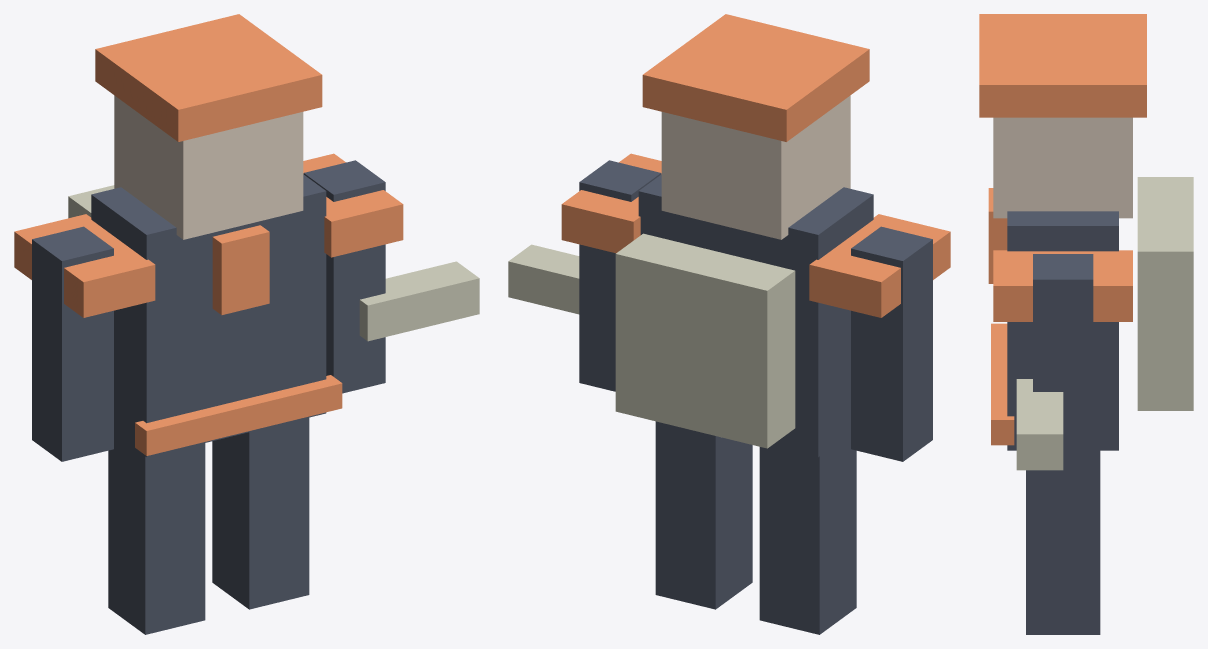
The model's file is 17_sarai_gravesong_herald_near_emergency.glb.
3 renders of one model, left to right at view 1: azimuth 30°, elevation 25°; view 2: azimuth 150°, elevation 25°; view 3: azimuth 270°, elevation 25°, orthographic.
Parts seen in each view (by area): view 1: Sarai Gravesong, Herald near Emergency; view 2: Sarai Gravesong, Herald near Emergency; view 3: Sarai Gravesong, Herald near Emergency.
Boxes of the visible parts, x1,y1,x2,y2 form: Sarai Gravesong, Herald near Emergency: (14,14,479,634); Sarai Gravesong, Herald near Emergency: (508,14,950,634); Sarai Gravesong, Herald near Emergency: (979,14,1193,634).
Bounding box in the file's own units: 1.11 × 1.39 × 0.4961.
